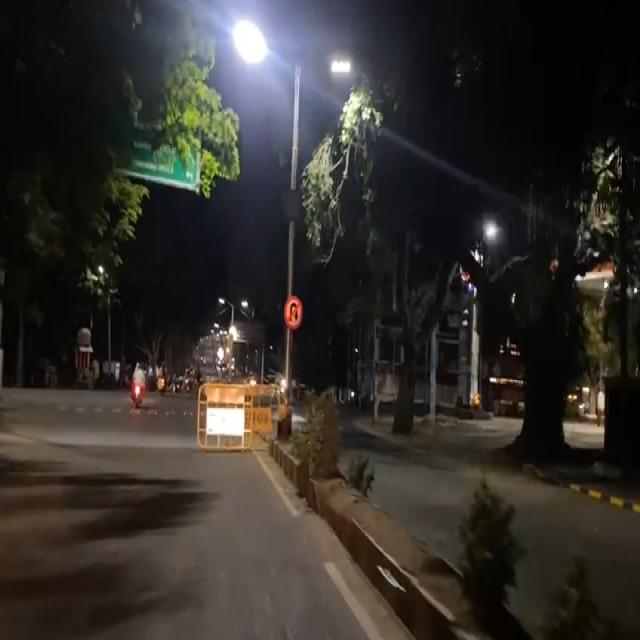bien_cam: (282, 291, 304, 329)
